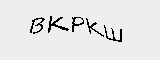В: (27, 15, 46, 35)
К: (44, 14, 69, 34), (84, 19, 103, 39)
Р: (70, 15, 84, 33)
Ш: (104, 26, 125, 44)
